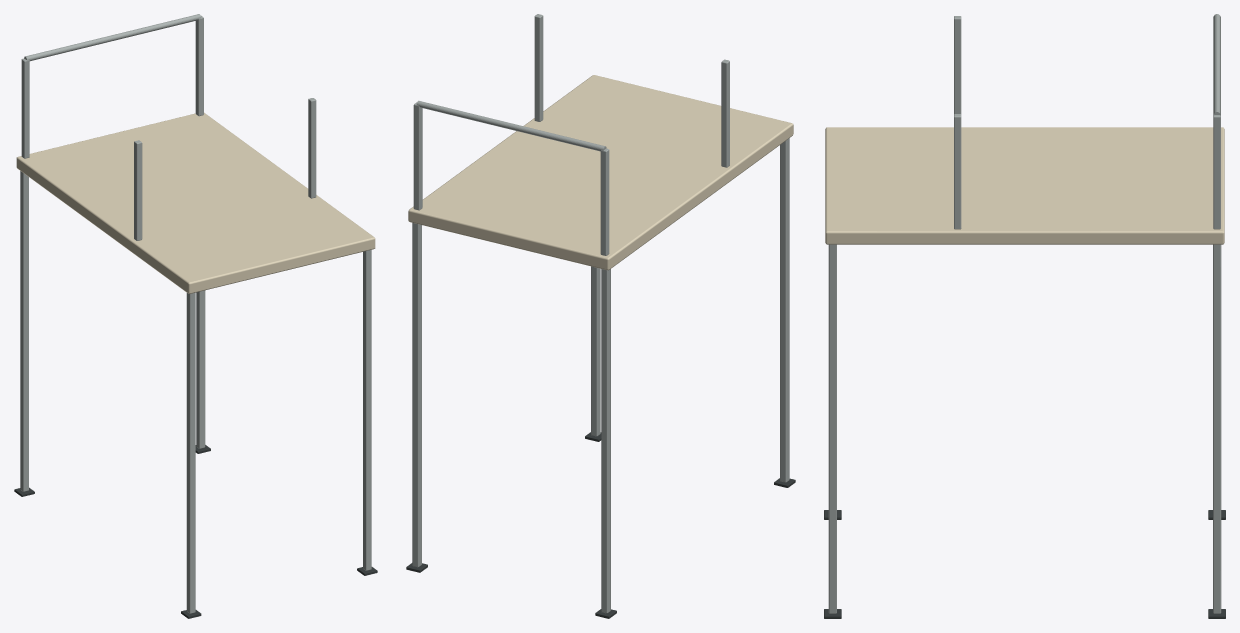
File: indoor-climbing-and-bouldering-gym-indoor-climbing-and-c048857d__31521.glb
3 renders of one model, left to right at view 1: azimuth 30°, elevation 25°; view 2: azimuth 150°, elevation 25°; view 3: azimuth 270°, elevation 25°, orthographic. The views are drawn at different scales.
Visible parts, largest first — view 1: indoor-climbing-and-bouldering-gym-top-out-deck; view 2: indoor-climbing-and-bouldering-gym-top-out-deck; view 3: indoor-climbing-and-bouldering-gym-top-out-deck.
Part boxes in pixels (x1,y1,x2,y2): indoor-climbing-and-bouldering-gym-top-out-deck: [14, 14, 377, 618]; indoor-climbing-and-bouldering-gym-top-out-deck: [406, 14, 795, 618]; indoor-climbing-and-bouldering-gym-top-out-deck: [824, 14, 1225, 618].
Size of the model in its own units: 2.02 by 4.45 by 3.22.
